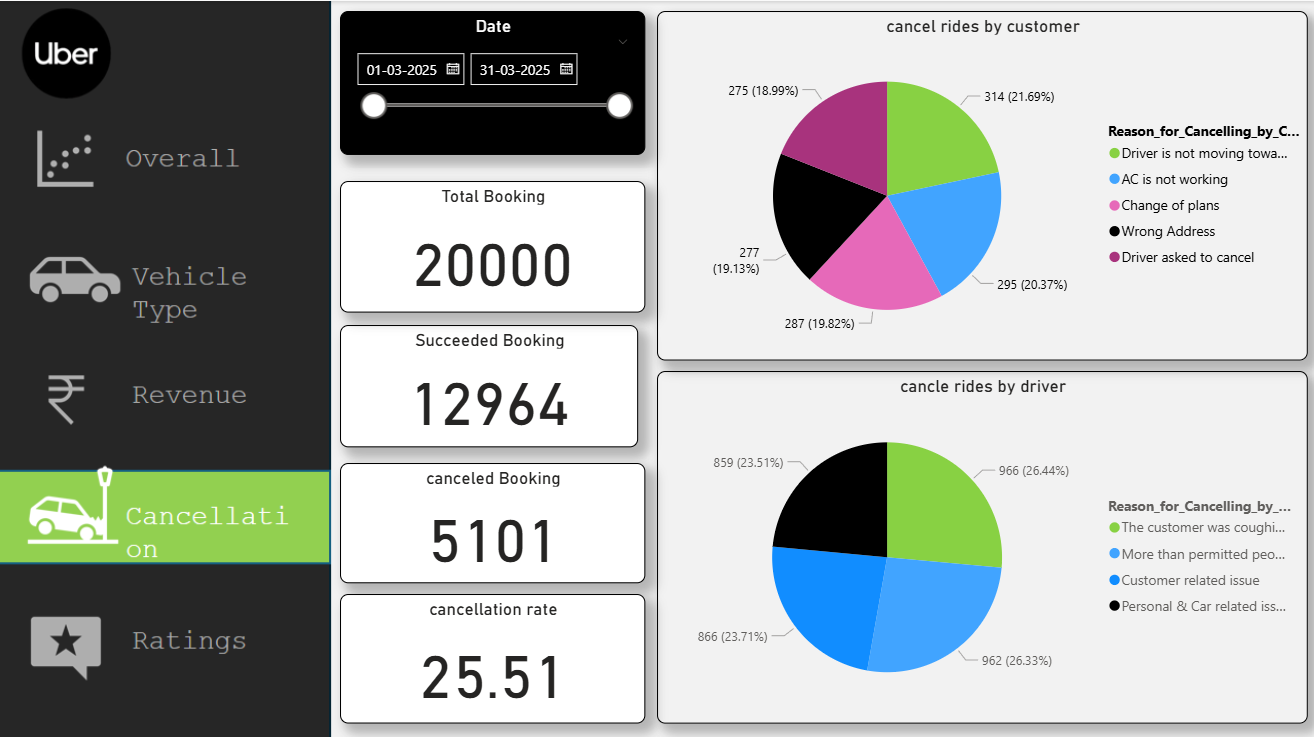

Layout of this report page (visuals, bound fields, positions):
{"tool":"powerbi","page":{"name":"cancellation","canvas":[1280,720],"ordinal":3},"visuals":[{"type":"actionButton","box":[0,229.5,324.9,94.3],"z":0},{"type":"actionButton","box":[0,102.9,324.5,93.1],"z":1000},{"type":"actionButton","box":[0,342.3,324.5,89.6],"z":2000},{"type":"actionButton","box":[0,576.4,324.5,93.1],"z":3000},{"type":"pieChart","title":"cancel rides by customer","fields":{"Category":["Sheet1 (2).Reason_for_Cancelling_by_Customer"],"Y":["CountNonNull(Sheet1 (2).Cancelled_Rides_by_Customer)"]},"box":[640.5,9.8,632.6,340.4],"z":4000},{"type":"pieChart","title":"cancle rides by driver","fields":{"Category":["Sheet1 (2).Reason_for_Cancelling_by_Driver"],"Y":["CountNonNull(Sheet1 (2).Cancelled_Rides_by_Driver)"]},"box":[640.5,360.1,632.6,343.4],"z":5000},{"type":"slicer","title":"Date","fields":{"Values":["Sheet1 (2).Date"]},"box":[332.6,9.7,296.7,140.1],"z":6000},{"type":"card","title":"Succeeded Booking","fields":{"Values":["Count(Sheet1 (2).Booking_ID)"]},"box":[332.6,315.1,289.8,118.7],"z":7000},{"type":"card","title":"canceled Booking","fields":{"Values":["Count(Sheet1 (2).Booking_ID)"]},"box":[332.6,449.4,296.7,116.7],"z":8000},{"type":"card","title":"cancellation rate","fields":{"Values":["Sheet1 (2).Cancellation Rate"]},"box":[332.6,576.8,296.7,126.4],"z":9000},{"type":"card","title":"Total Booking","fields":{"Values":["Count(Sheet1 (2).Booking_ID)"]},"box":[332.6,175.1,296.7,128.4],"z":10000}]}

Visuals, with their boxes on the page's 1280x720 design canvas (x1, y1, x2, y2). These are canvas units, not pixel positions in the 1314x737 screenshot, which may show the page scaled, cropped or inside an application window:
actionButton: (x1=0, y1=230, x2=325, y2=324)
actionButton: (x1=0, y1=103, x2=324, y2=196)
actionButton: (x1=0, y1=342, x2=324, y2=432)
actionButton: (x1=0, y1=576, x2=324, y2=670)
"cancel rides by customer" pieChart: (x1=640, y1=10, x2=1273, y2=350)
"cancle rides by driver" pieChart: (x1=640, y1=360, x2=1273, y2=704)
"Date" slicer: (x1=333, y1=10, x2=629, y2=150)
"Succeeded Booking" card: (x1=333, y1=315, x2=622, y2=434)
"canceled Booking" card: (x1=333, y1=449, x2=629, y2=566)
"cancellation rate" card: (x1=333, y1=577, x2=629, y2=703)
"Total Booking" card: (x1=333, y1=175, x2=629, y2=304)
